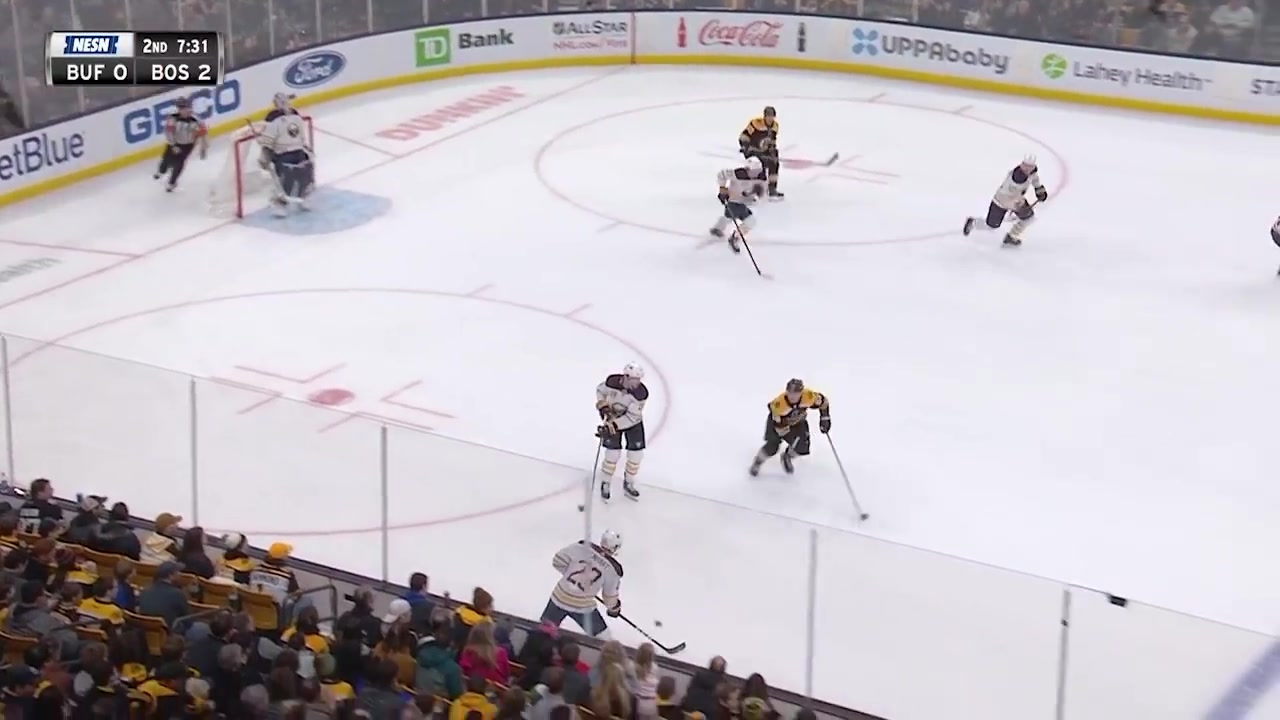Geico: (115, 86, 262, 142)
